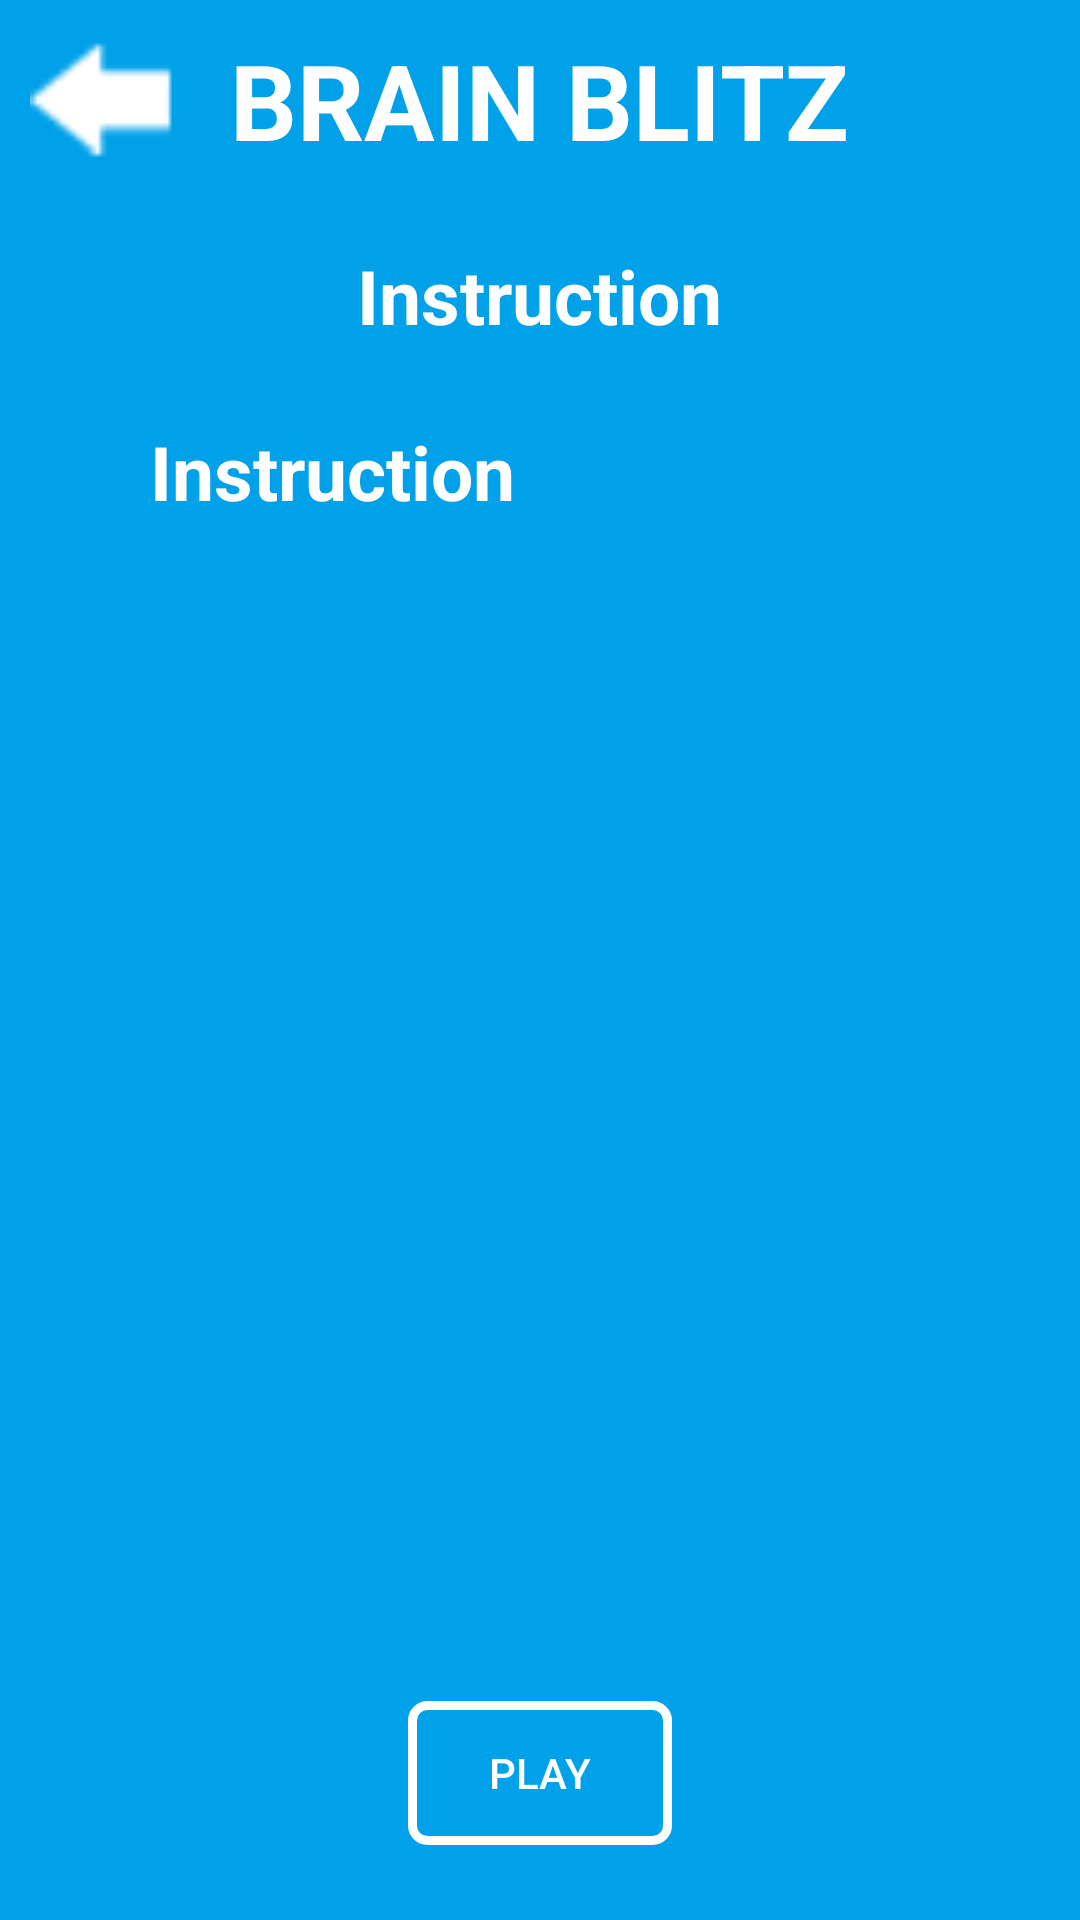

Screen size 1080 x 1920. Icon name, then its box in pixels as [x1, y1, x2, y2]:
arrow ar: [30, 43, 172, 157]
